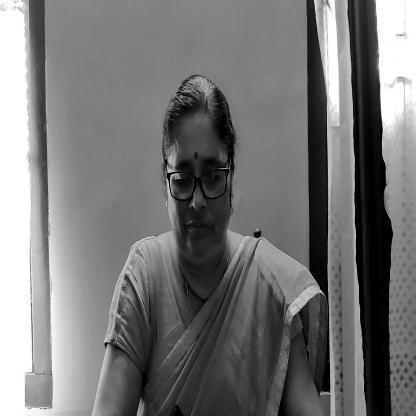Normal: (160, 78, 233, 270)
